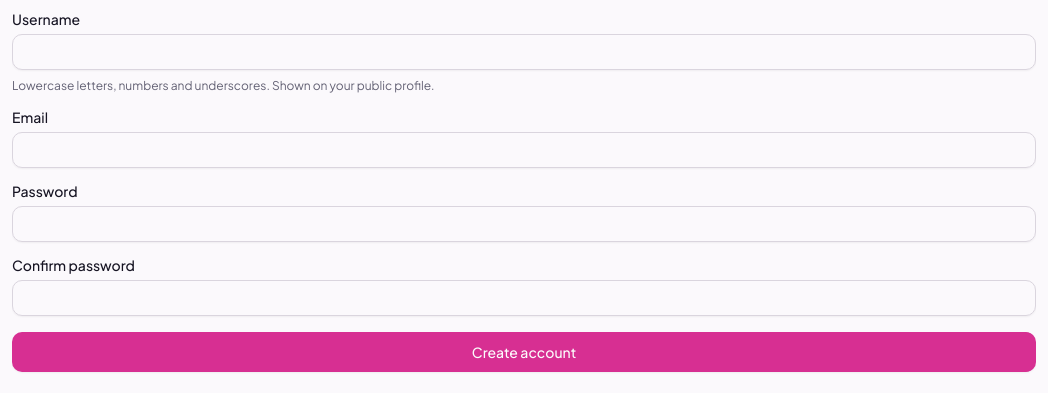
Test: SignupForm › rejects usernames that are already taken
Type "prasad_ks" into the field labelled "Username" at x=524, y=52, box [12, 34, 1036, 70]
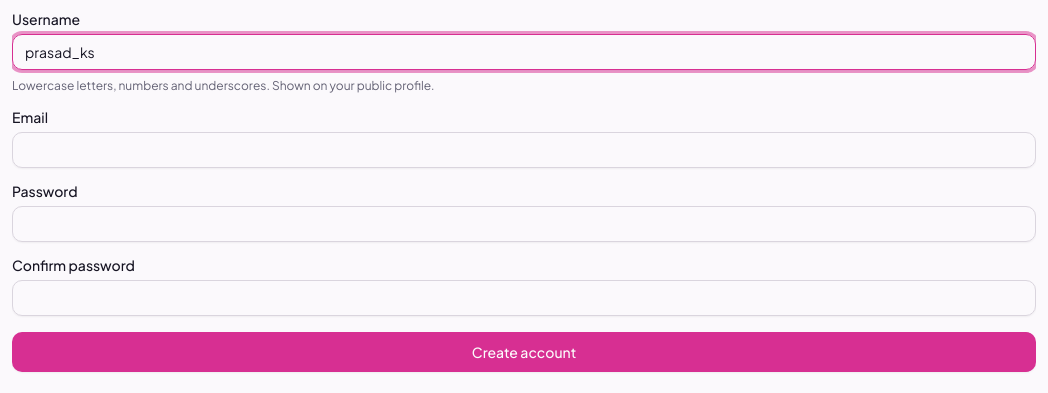
Type "prasad@example.com" into the field labelled "Email" at x=524, y=150, box [12, 132, 1036, 168]
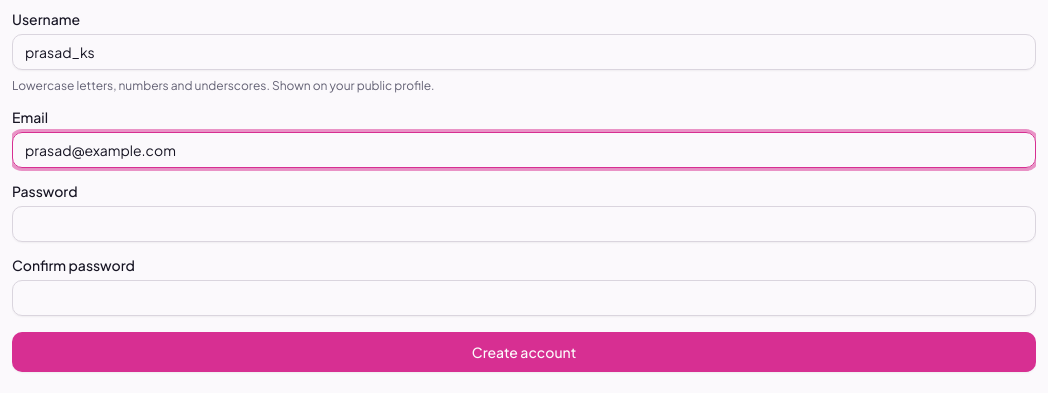
Type "secret123" into the password field labelled "Password" at x=524, y=224, box [12, 206, 1036, 242]
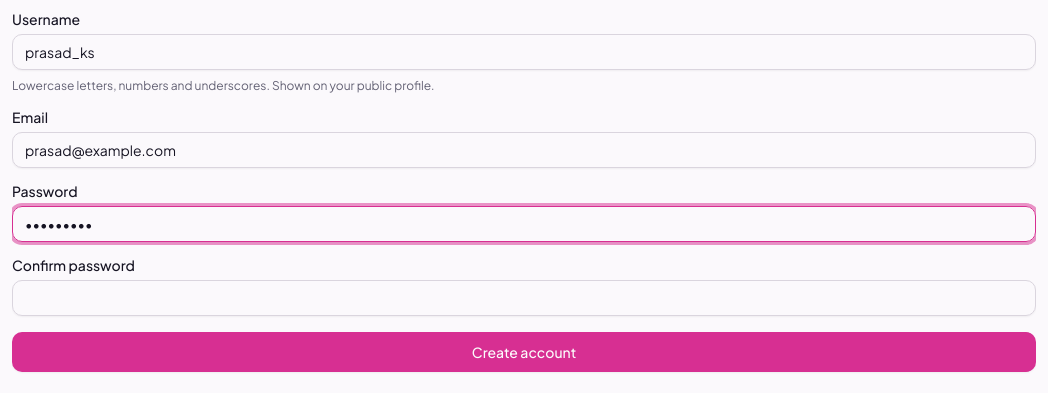
Type "secret123" into the password field labelled "Confirm password" at x=524, y=298, box [12, 280, 1036, 316]
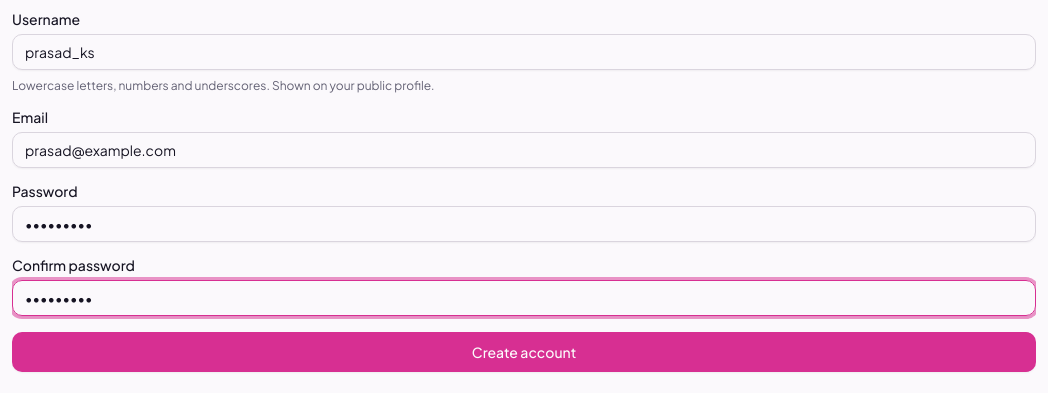
Click the button "Create account" at x=524, y=352, box [12, 332, 1036, 372]
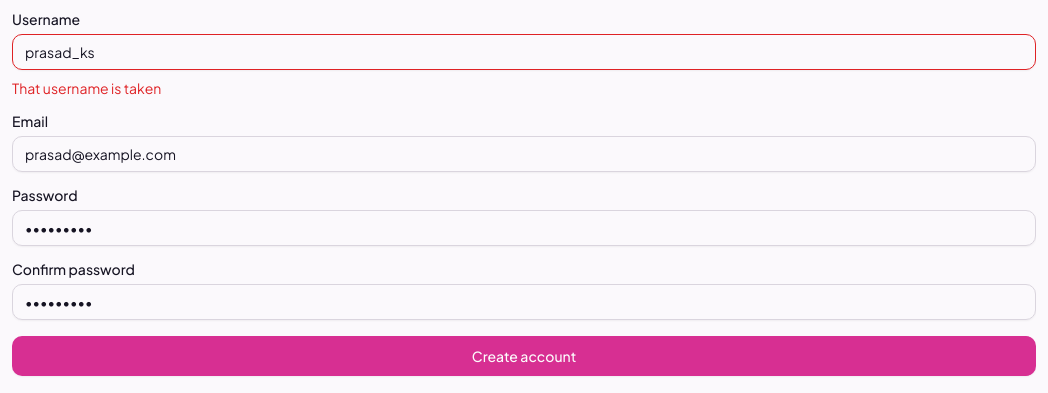
Now the text "That username is taken" is shown, box [12, 79, 161, 97]
